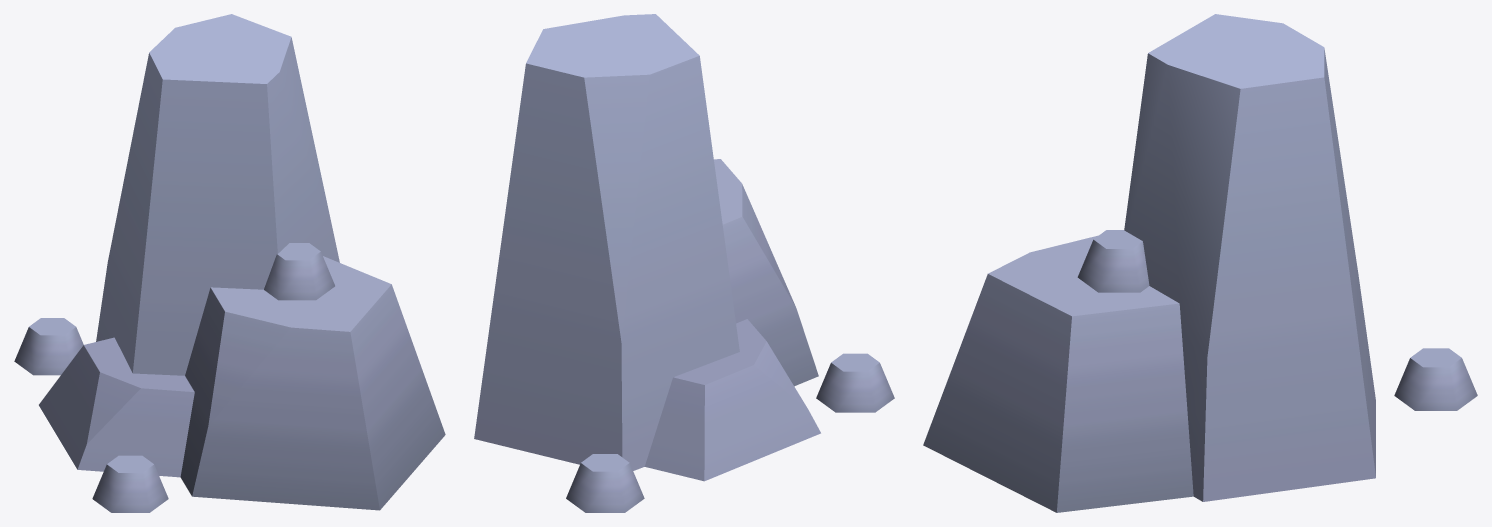
The model's file is rock-small.glb.
The picture shows the model from 3 angles, left to right: view 1: azimuth 30°, elevation 25°; view 2: azimuth 150°, elevation 25°; view 3: azimuth 270°, elevation 25°; orthographic projection. The views are drawn at different scales.
Visible parts, largest first — view 1: rock-small; view 2: rock-small; view 3: rock-small.
Part boxes in pixels (x1,y1,x2,y2): rock-small: [14, 14, 445, 512]; rock-small: [474, 14, 894, 512]; rock-small: [923, 14, 1477, 512].
Bounding box in the file's own units: 0.9984 × 1.02 × 1.33.
1 material, 1 textured.
